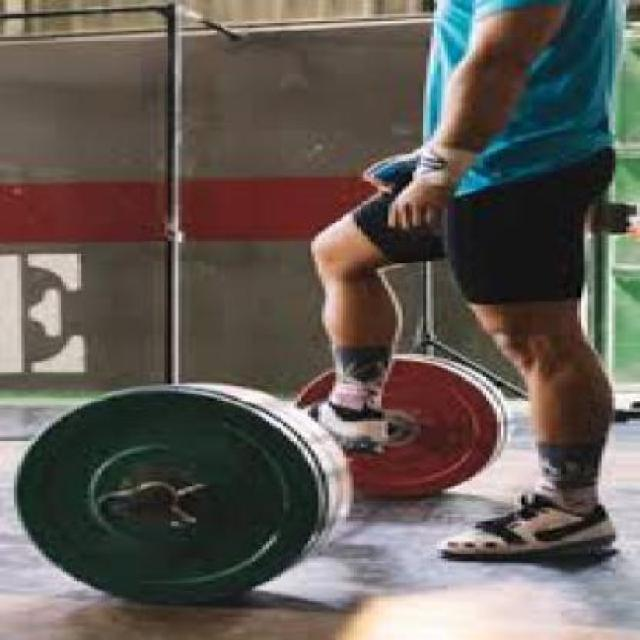barbell: (8, 381, 329, 613)
